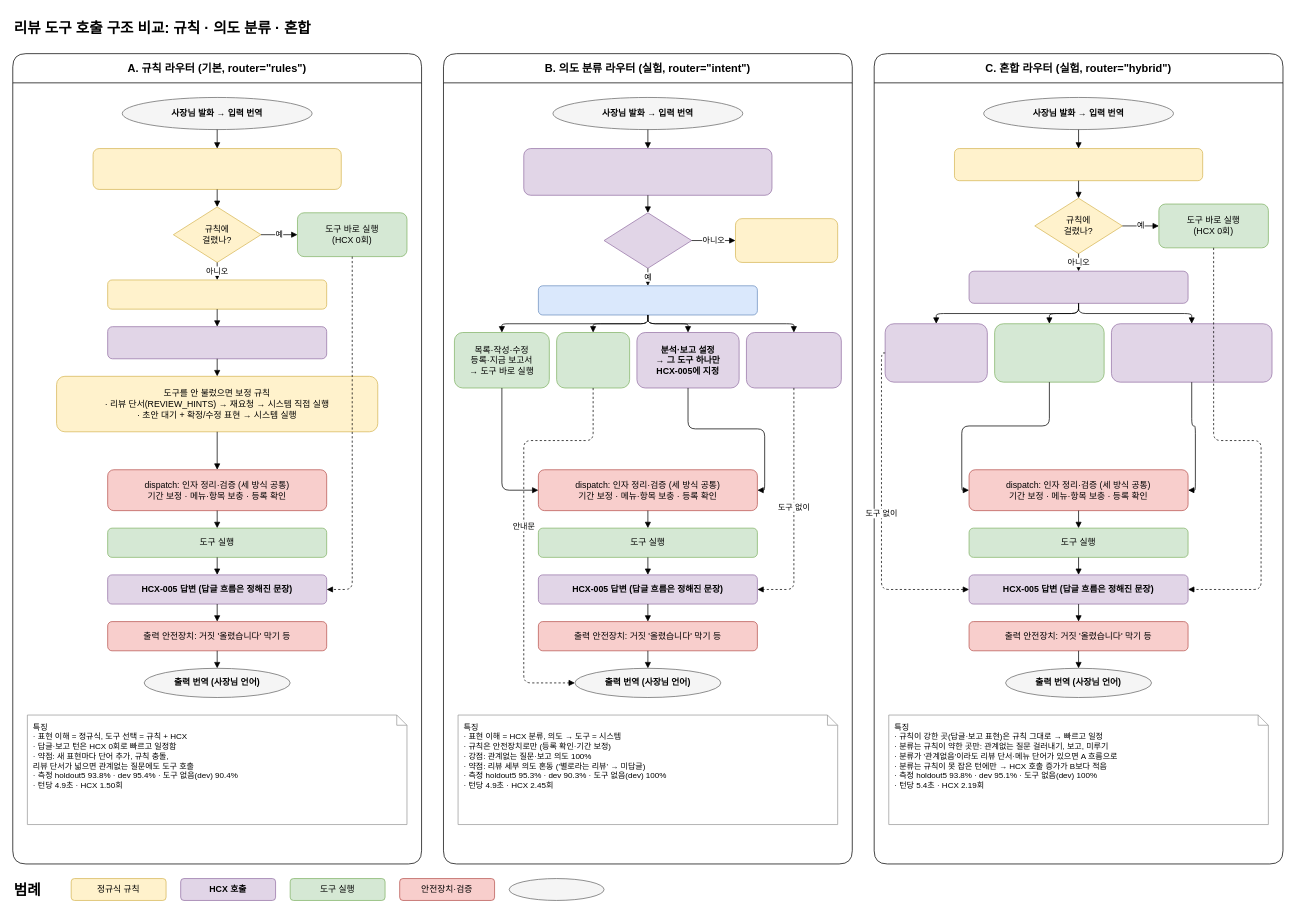
Image size: 1296x913. Some labels were removed from this diagram. The shapes that lost their labels are listed below. From the top down, each one's centre as x and y in pixels, then its label:
the point at 216,168: 정규식 규칙 route() 보고 → 확정 → 등록 → 수정 → 쓰기 → 목록
the point at 647,171: HCX-007 의도 분류 (JSON 스키마) 입력: 발화 + 직전 답변 + 상태 출력: 의도 1개 + 답글 대상
the point at 1078,164: ① 정규식 규칙 route() 먼저 (A와 같음)
the point at 647,240: 분류 성공?
the point at 786,240: 규칙 라우터로 (A와 같음)
the point at 217,294: 초안 대기 + 미루는 말 → 안내문
the point at 647,300: 의도 → 실행 계획 (시스템이 정함)
the point at 1078,286: ② 못 잡은 턴만 HCX-007 의도 분류
the point at 217,342: HCX-005가 도구 5개 중 선택
the point at 593,360: 미루기 → 안내문
the point at 793,360: 관계없음 → 도구 없이 답변
the point at 935,352: 관계없음 + 리뷰 단서 없음 → 도구 없이 답변
the point at 1049,352: 보고 · 미루기 → 보고 도구 / 안내문
the point at 1191,352: 그 밖 (분석·목록·작성·수정·등록) 또는 분류 실패 → A의 HCX-005 흐름 (도구 5개 + 재요청)
the point at 556,889: 입출력
